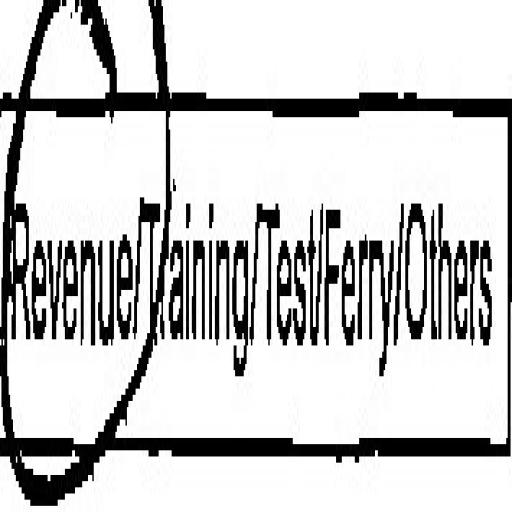check: (3, 0, 140, 512)
